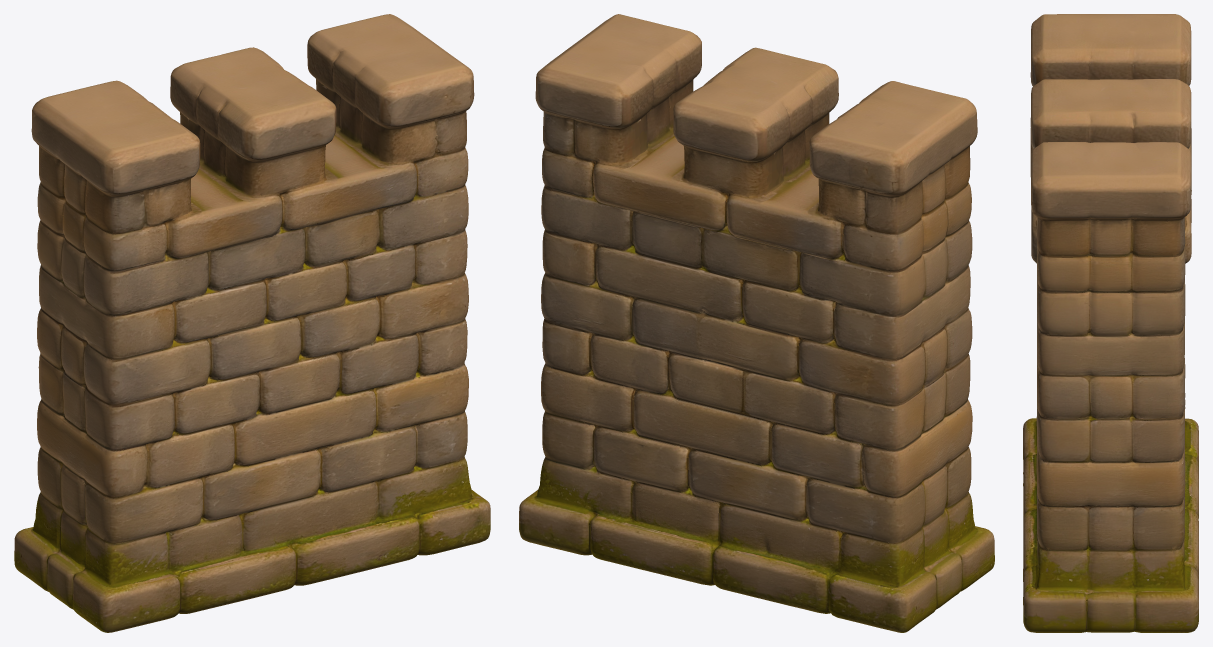
The model's file is ck_wall2.glb.
The picture shows the model from 3 angles, left to right: view 1: azimuth 30°, elevation 25°; view 2: azimuth 150°, elevation 25°; view 3: azimuth 270°, elevation 25°; orthographic projection. The views are drawn at different scales.
Parts seen in each view (by area): view 1: ck_wall2; view 2: ck_wall2; view 3: ck_wall2.
Part boxes in pixels (left/top/right/bottom): ck_wall2: left=14, top=14, right=490, bottom=632; ck_wall2: left=519, top=14, right=994, bottom=632; ck_wall2: left=1023, top=14, right=1198, bottom=632.
Size of the model in its own units: 1.7 by 1.97 by 0.6954.
1 material, 1 textured.
